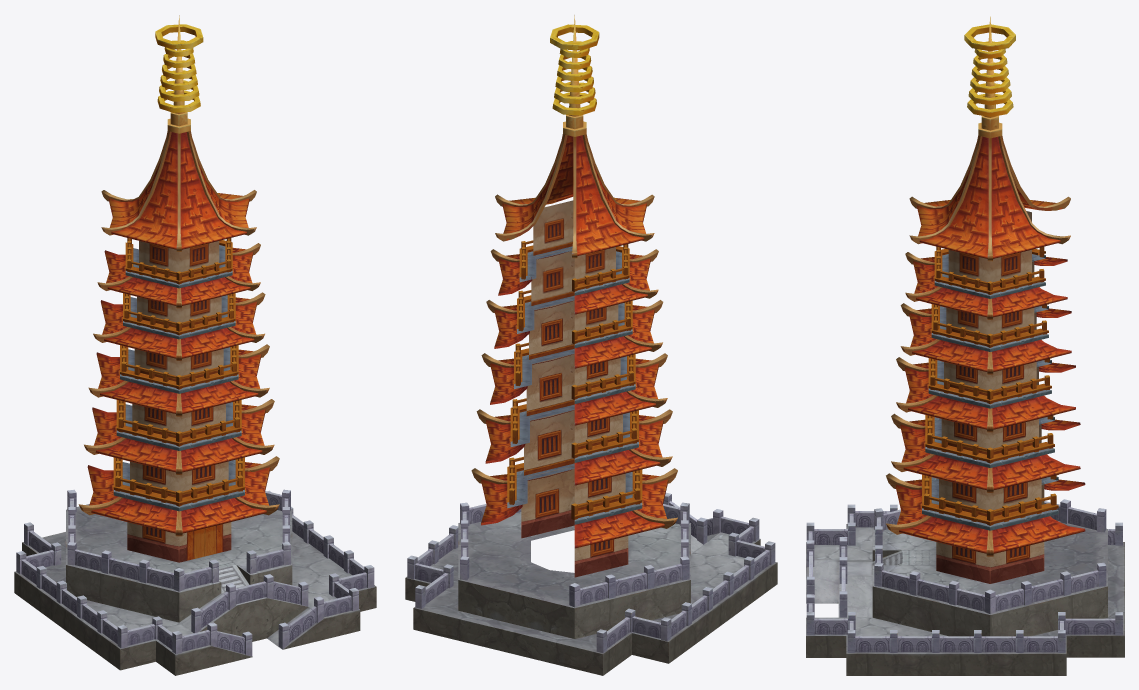
Rendered from Stage_ZhuCheng_WuJingZhiTa_08.FBX.
3 views of the same model, side by side, from view 1: azimuth 30°, elevation 25°; view 2: azimuth 150°, elevation 25°; view 3: azimuth 270°, elevation 25° (orthographic). The views are drawn at different scales.
Parts seen in each view (by area): view 1: Stage_ZhuCheng_WuJingZhiTa_08; view 2: Stage_ZhuCheng_WuJingZhiTa_08; view 3: Stage_ZhuCheng_WuJingZhiTa_08.
Part boxes in pixels (x1=…): Stage_ZhuCheng_WuJingZhiTa_08: x1=14, y1=15, x2=376, y2=675; Stage_ZhuCheng_WuJingZhiTa_08: x1=405, y1=15, x2=777, y2=675; Stage_ZhuCheng_WuJingZhiTa_08: x1=806, y1=16, x2=1124, y2=675.
Bounding box in the file's own units: 1112 × 2381 × 1152.
